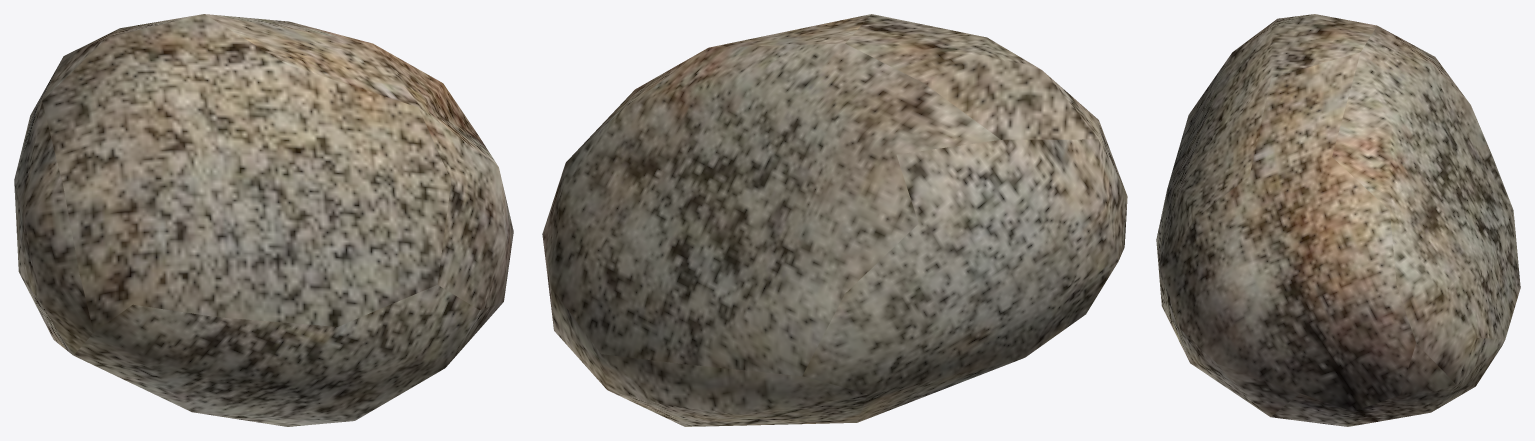
The picture shows the model from 3 angles, left to right: view 1: azimuth 30°, elevation 25°; view 2: azimuth 150°, elevation 25°; view 3: azimuth 270°, elevation 25°; orthographic projection. The views are drawn at different scales.
Visible parts, largest first — view 1: rock005_lod4; view 2: rock005_lod4; view 3: rock005_lod4.
Boxes of the visible parts, x1,y1,x2,y2 form: rock005_lod4: [14, 14, 513, 426]; rock005_lod4: [542, 14, 1127, 426]; rock005_lod4: [1156, 14, 1520, 426].
Bounding box in the file's own units: 1 × 0.7787 × 0.7991.
1 material, 1 textured.
